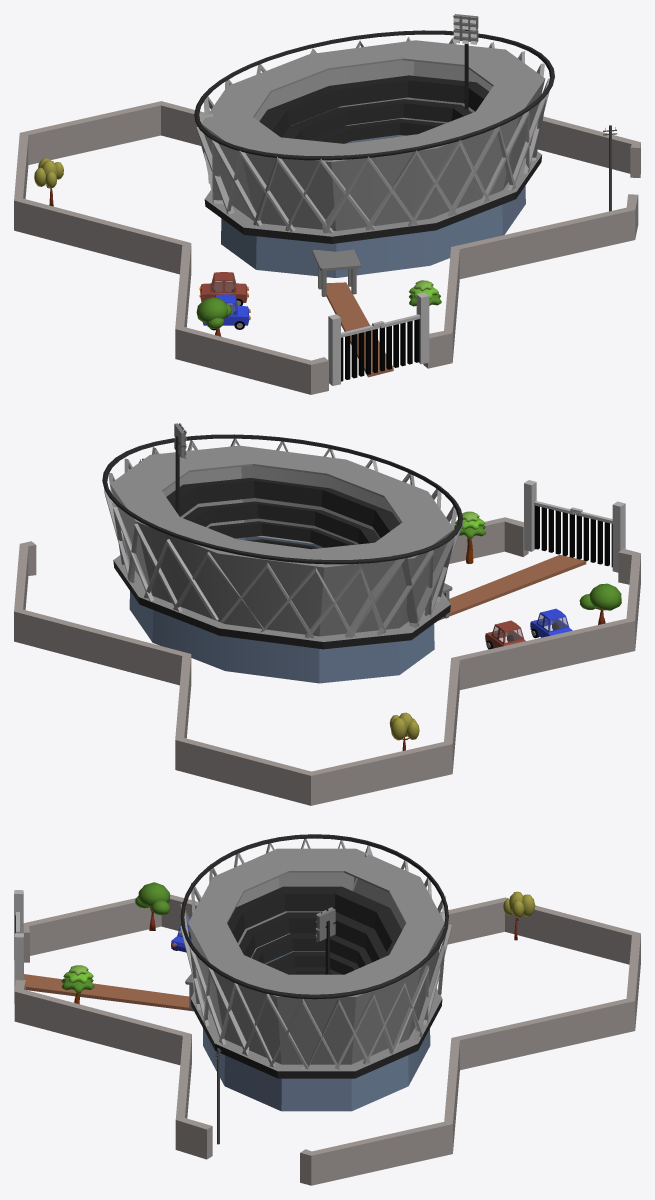
File: Stadium.fbx
The picture shows the model from 3 angles, top to bottom: view 1: azimuth 30°, elevation 25°; view 2: azimuth 150°, elevation 25°; view 3: azimuth 270°, elevation 25°; orthographic projection.
Visible parts, largest first — view 1: main structure, wall, Gate, Path, Entrance, Flood light, Car.001, Tree2, Tree3, Car; view 2: main structure, wall, Gate, Path, Tree2, Car, Car.001, Tree1.004, Tree3, Flood light; view 3: main structure, wall, Path, Tree2, Gate, Flood light, Tree1.004, Tree3.
Part boxes in pixels (x1,y1,x2,y2): main structure: (194, 30, 554, 277); wall: (14, 101, 640, 394); Gate: (328, 292, 429, 385); Path: (326, 282, 393, 377); Entrance: (312, 249, 360, 296); Flood light: (453, 14, 478, 109); Car.001: (199, 272, 248, 305); Tree2: (196, 297, 231, 336); Tree3: (34, 158, 63, 206); Car: (203, 294, 250, 330); main structure: (102, 434, 463, 683); wall: (14, 517, 640, 805); Gate: (524, 480, 625, 572); Path: (438, 555, 586, 620); Tree2: (579, 583, 621, 624); Car: (530, 608, 572, 638); Car.001: (485, 620, 525, 649); Tree1.004: (454, 511, 485, 563); Tree3: (389, 712, 419, 750); Flood light: (174, 423, 186, 515); main structure: (180, 834, 451, 1111); wall: (14, 894, 640, 1185); Path: (24, 974, 193, 1011); Tree2: (135, 882, 170, 930); Gate: (14, 890, 23, 1003); Flood light: (315, 907, 335, 974); Tree1.004: (61, 965, 94, 1004); Tree3: (503, 891, 535, 940).
Size of the model in its own units: 303 by 103 by 305.
